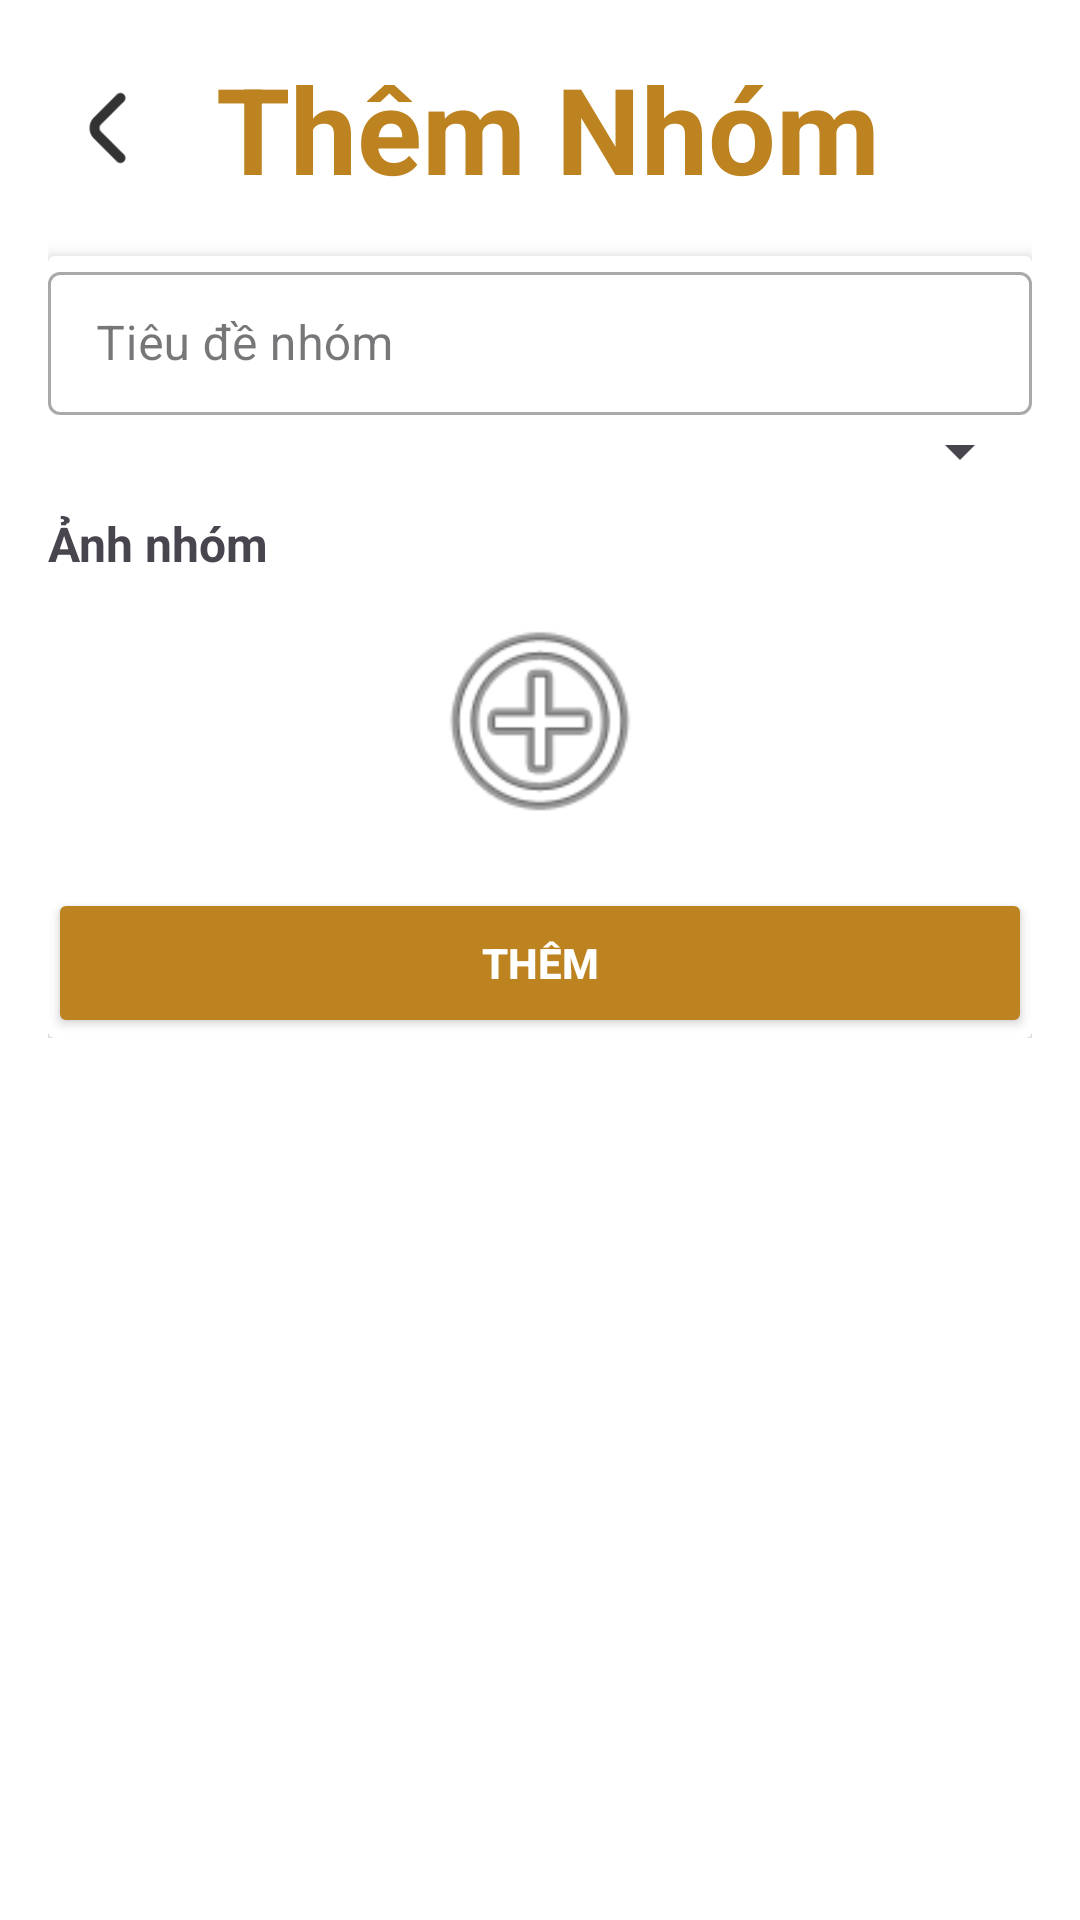

Point at icon controls on the screen. Image size 1080 x 1920, points as point (x, y).
add: point (540, 721)
angle left: point (107, 128)
